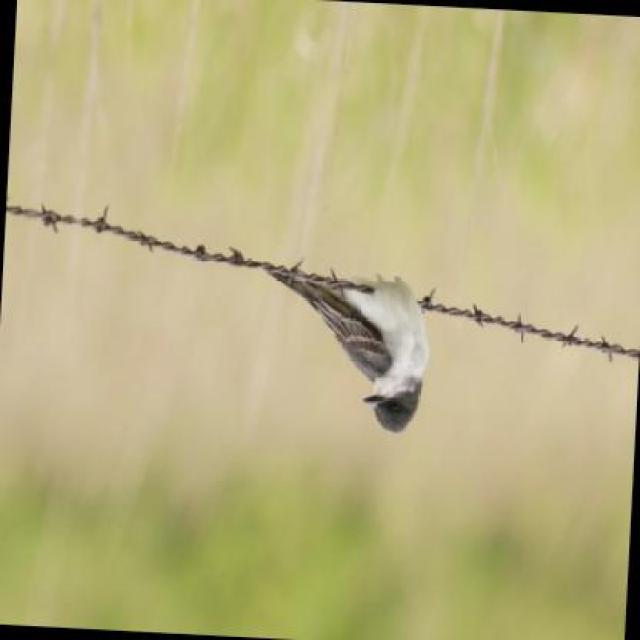Bird: (257, 255, 459, 446)
